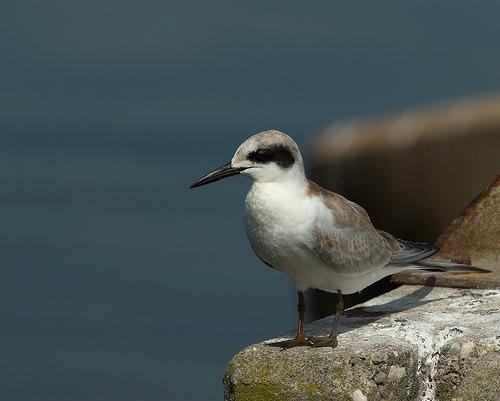bird: (187, 127, 491, 344)
